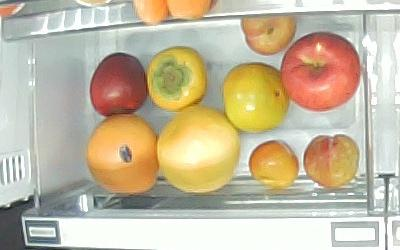apple: (281, 32, 361, 113), (89, 53, 148, 117)
grapefruit: (157, 104, 241, 194), (86, 113, 159, 196)
persimmon: (222, 62, 290, 134), (146, 46, 208, 112)
prune: (302, 133, 361, 190), (247, 140, 299, 189), (240, 15, 296, 56)
